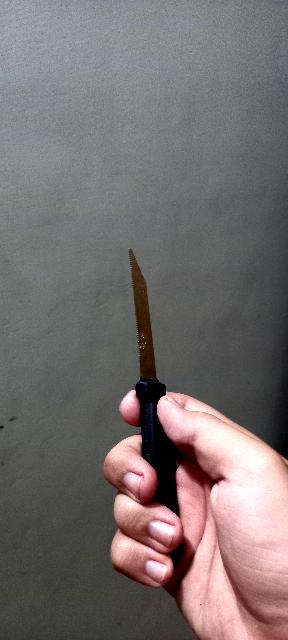pocket-knife: (115, 235, 178, 560)
